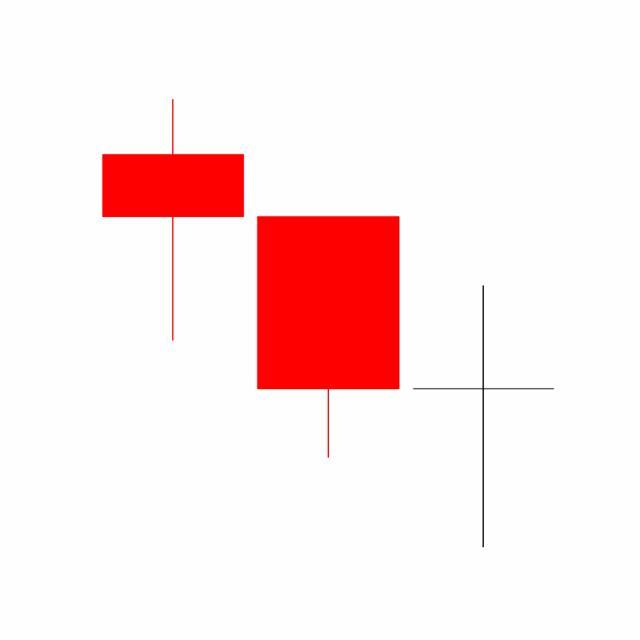Spinning Top: (406, 283, 562, 551)
